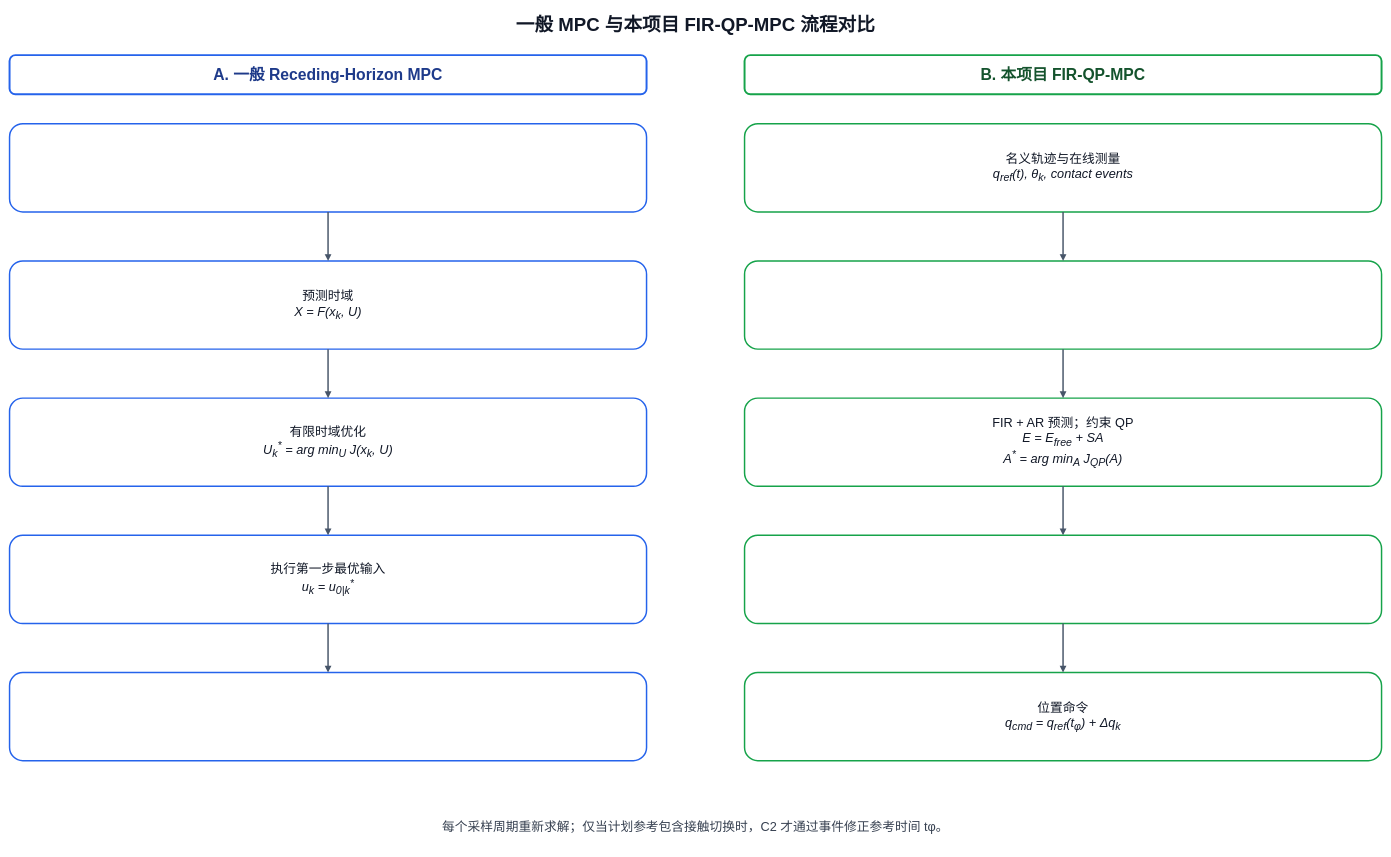
The diagram is 1391 pixels wide and 857 high, and some of its shapes have lost their labels. Here are the shapes that lost their labels. From the top down, the centre of each, then its label:
pixel 328 167: 状态测量与参考输入 x k , r k
pixel 1063 305: 参考时间与俯仰误差 t φ = t + Δt φ e k = θ k − θ ref (t φ )
pixel 1063 579: 首个控制量与关节映射 α k = A 0 * , Δq k = Gα k
pixel 328 716: 系统演化；下一采样周期重复 x k+1 = f(x k ,u k )
